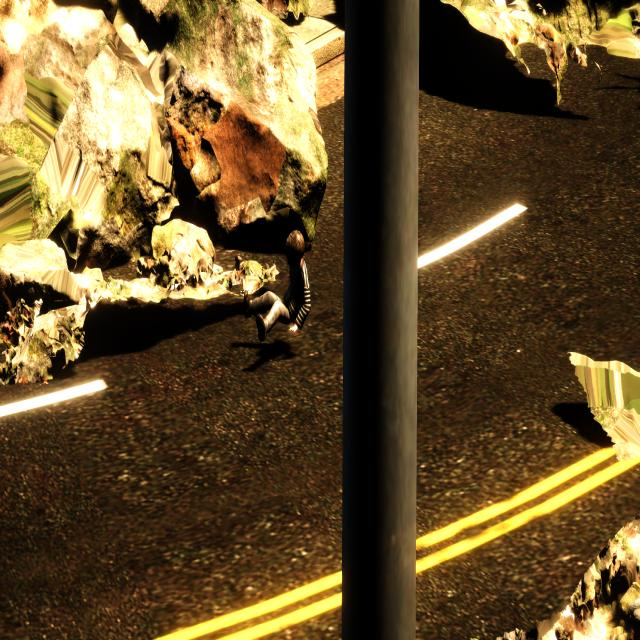Human: (243, 224, 314, 342)
